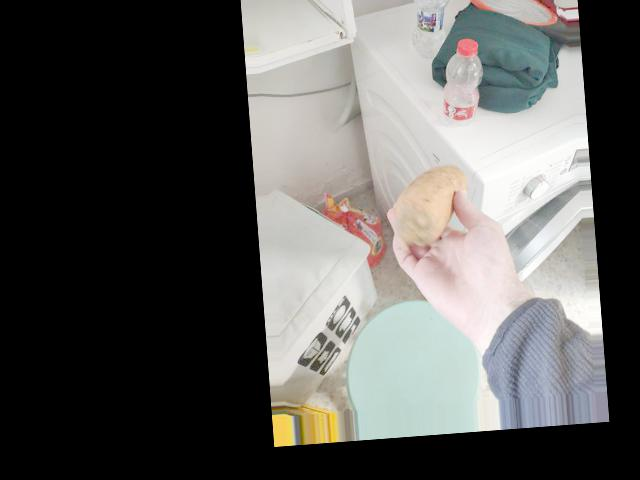sweet_potato: (397, 162, 479, 255)
